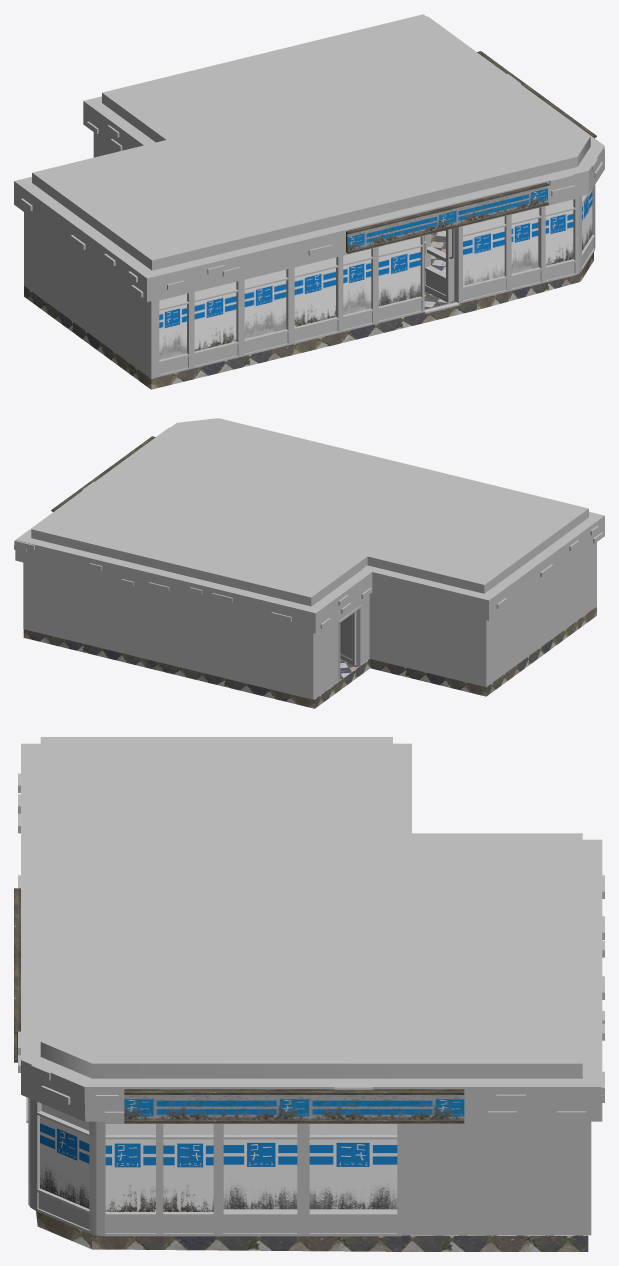
Rendered from Area2Building01.fbx.
3 views of the same model, one above another, from view 1: azimuth 30°, elevation 25°; view 2: azimuth 150°, elevation 25°; view 3: azimuth 270°, elevation 25° (orthographic). The views are drawn at different scales.
Visible parts, largest first — view 1: Area2Building01Walls, Area2Building01Windows, Area2Building01Floor, Area2Building01Signboard; view 2: Area2Building01Walls, Area2Building01Floor, Area2Building01Signboard; view 3: Area2Building01Walls, Area2Building01Windows, Area2Building01Signboard, Area2Building01Floor.
Boxes of the visible parts, x1,y1,x2,y2 form: Area2Building01Walls: (14, 14, 604, 378); Area2Building01Windows: (159, 189, 592, 359); Area2Building01Floor: (24, 230, 593, 389); Area2Building01Signboard: (346, 51, 596, 253); Area2Building01Walls: (14, 418, 604, 699); Area2Building01Floor: (23, 595, 596, 708); Area2Building01Signboard: (51, 436, 155, 511); Area2Building01Walls: (18, 737, 604, 1236); Area2Building01Windows: (40, 1104, 397, 1211); Area2Building01Signboard: (14, 888, 464, 1123); Area2Building01Floor: (36, 1211, 588, 1251).
Size of the model in its own units: 792 by 194 by 567.
